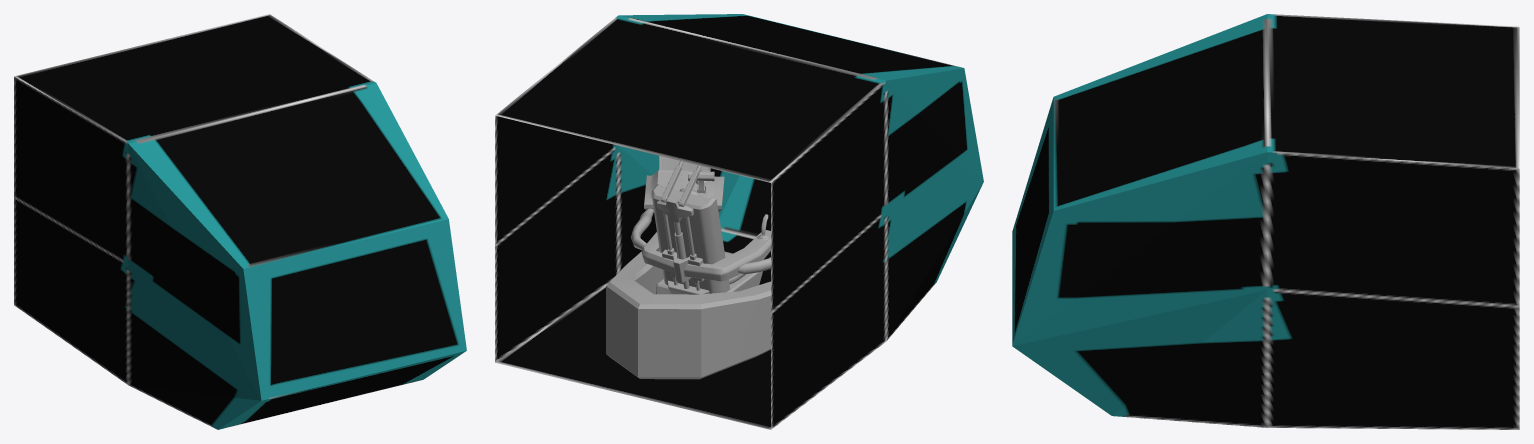
File: cockpit.fbx
The picture shows the model from 3 angles, left to right: view 1: azimuth 30°, elevation 25°; view 2: azimuth 150°, elevation 25°; view 3: azimuth 270°, elevation 25°; orthographic projection. The views are drawn at different scales.
Parts seen in each view (by area): view 1: pasted__pCube1; view 2: pasted__pCube1, polySurface272; view 3: pasted__pCube1.
Part boxes in pixels (x1,y1,x2,y2): pasted__pCube1: (14,14,466,429); pasted__pCube1: (495,14,983,429); polySurface272: (606,156,770,379); pasted__pCube1: (1012,14,1519,429).
Size of the model in its own units: 247 by 223 by 372.
